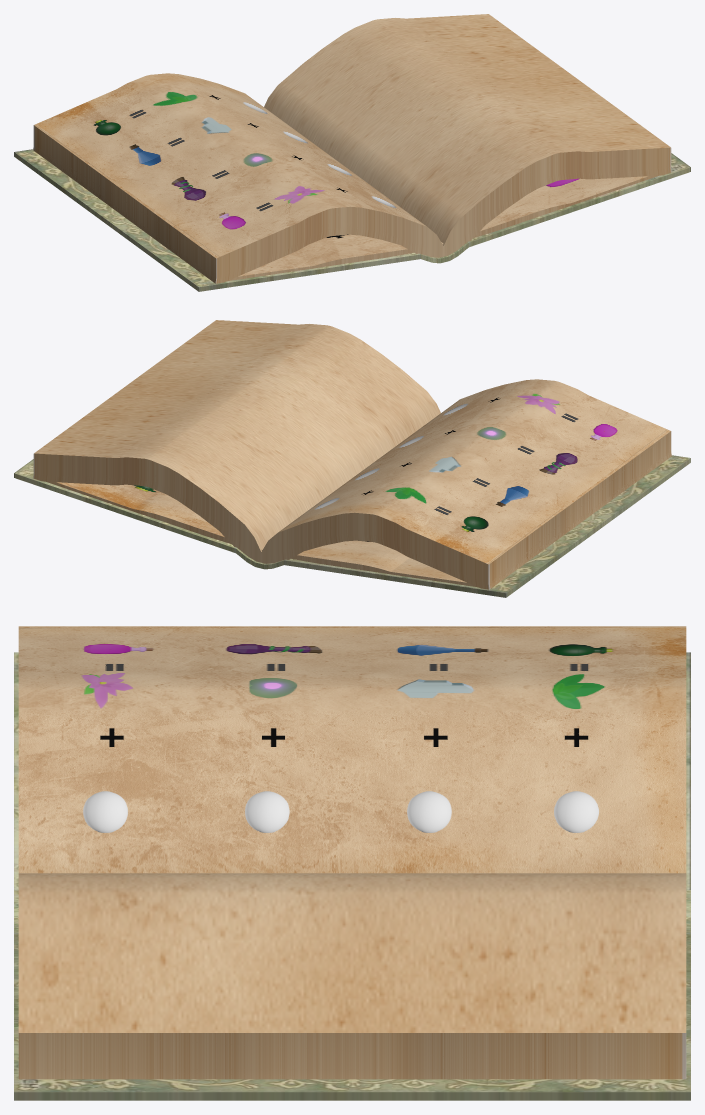
Rendered from book fix.fbx.
3 renders of one model, top to bottom at view 1: azimuth 30°, elevation 25°; view 2: azimuth 150°, elevation 25°; view 3: azimuth 270°, elevation 25°, orthographic. The views are drawn at different scales.
Visible parts, largest first — view 1: Plane.001; view 2: Plane.001; view 3: Plane.001.
Boxes of the visible parts, bbox=[...] form: Plane.001: bbox=[14, 14, 690, 291]; Plane.001: bbox=[14, 320, 690, 597]; Plane.001: bbox=[14, 626, 690, 1100].
Bounding box in the file's own units: 66.02 × 10.28 × 42.95.
